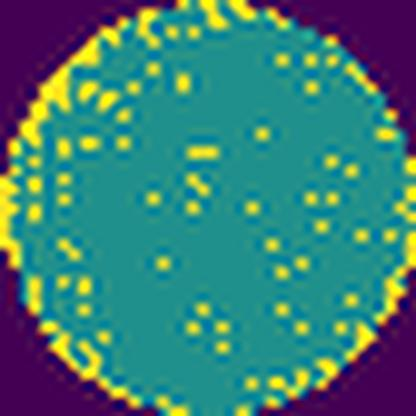Edge-Loc: (22, 26, 105, 152), (379, 223, 415, 323), (0, 172, 25, 273), (344, 324, 378, 360), (198, 0, 229, 35)
